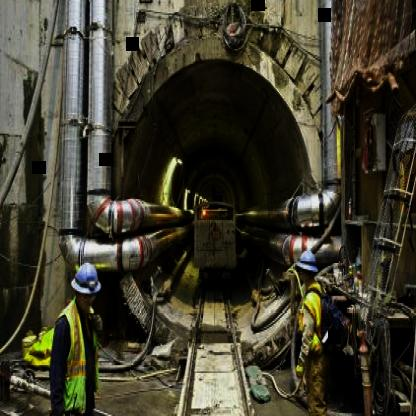helmet: (70, 262, 102, 306), (296, 247, 320, 290)
